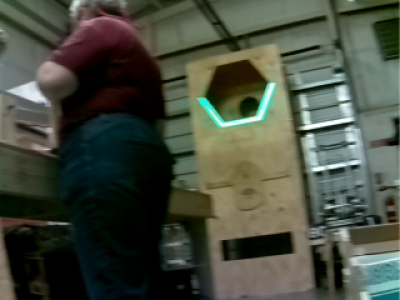target: (196, 81, 277, 127)
